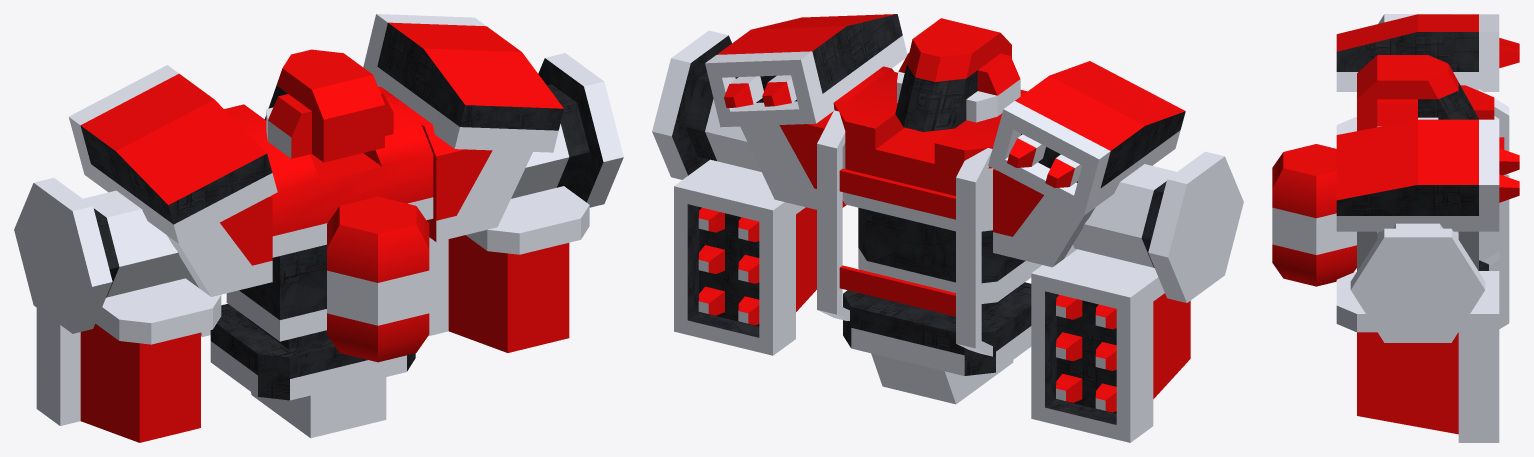
File: mech-tank.glb
3 views of the same model, side by side, from view 1: azimuth 30°, elevation 25°; view 2: azimuth 150°, elevation 25°; view 3: azimuth 270°, elevation 25° (orthographic). The views are drawn at different scales.
Parts seen in each view (by area): view 1: weapon_turretSmall (×2), weapon_turretLarge (×2), socket_large (×2), chest_body, tank_single, shoulder_skew (×2), pelvis_belt, head_marine; view 2: weapon_turretLarge (×2), weapon_turretSmall (×2), socket_large (×2), chest_body, detail_railDouble%, pelvis_belt, shoulder_skew (×2), head_marine; view 3: weapon_turretSmall (×2), weapon_turretLarge (×2), socket_large, tank_single, head_marine, detail_railDouble%, shoulder_skew, chest_body.
Boxes of the visible parts, x1,y1,x2,y2 form: weapon_turretSmall (×2): (69, 14, 563, 243); weapon_turretLarge (×2): (36, 186, 589, 442); socket_large (×2): (14, 53, 623, 333); chest_body: (224, 86, 433, 349); tank_single: (327, 196, 429, 362); shoulder_skew (×2): (167, 90, 532, 296); pelvis_belt: (210, 304, 415, 438); head_marine: (264, 49, 393, 162); weapon_turretLarge (×2): (674, 159, 1190, 442); weapon_turretSmall (×2): (705, 14, 1185, 215); socket_large (×2): (652, 30, 1243, 302); chest_body: (833, 70, 1041, 314); detail_railDouble%: (817, 110, 992, 356); pelvis_belt: (843, 282, 1031, 404); shoulder_skew (×2): (740, 66, 1152, 267); head_marine: (895, 18, 1020, 131); weapon_turretSmall (×2): (1336, 14, 1519, 231); weapon_turretLarge (×2): (1336, 116, 1499, 442); socket_large: (1350, 223, 1485, 342); tank_single: (1272, 144, 1356, 286); head_marine: (1357, 55, 1478, 130); detail_railDouble%: (1479, 89, 1509, 328); shoulder_skew: (1357, 231, 1478, 270); chest_body: (1460, 85, 1494, 119).
Size of the model in its own units: 2.6 by 1.6 by 1.22.
Materials: 33 (9 with a texture image).
